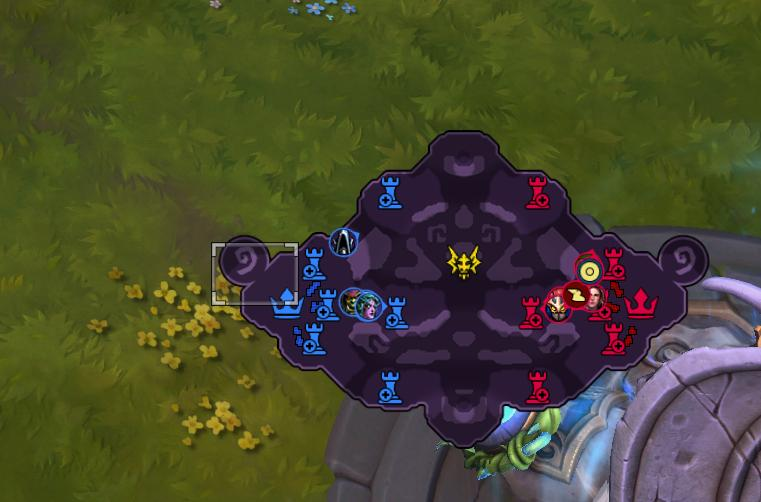blue nexus: (269, 286, 304, 319)
blue player: (328, 226, 359, 257), (353, 290, 383, 321), (335, 287, 364, 317)
blue tower: (375, 369, 405, 408), (381, 296, 412, 330), (376, 174, 403, 210), (298, 322, 327, 355), (312, 286, 340, 320), (301, 246, 325, 281)
red nexus: (624, 286, 659, 319)
red player: (573, 249, 606, 285), (543, 287, 572, 321), (562, 279, 592, 309), (582, 281, 606, 311), (547, 298, 570, 320)
red tower: (523, 369, 554, 406), (523, 174, 551, 210), (600, 320, 627, 357), (601, 247, 628, 281), (518, 295, 544, 329)
